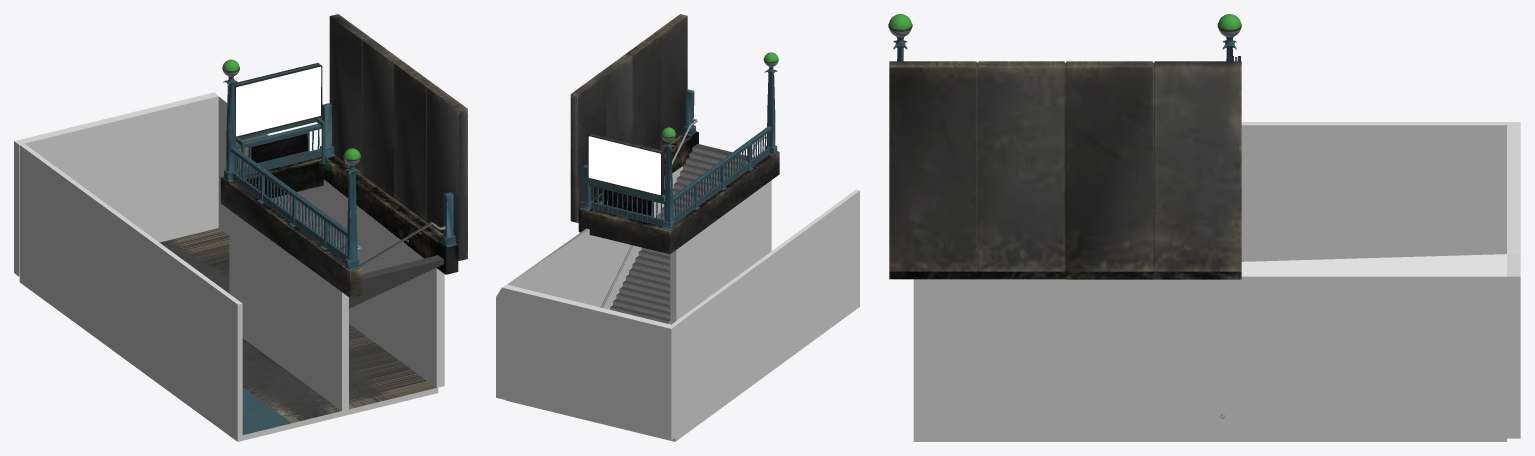
Rendered from entrance.glb.
The picture shows the model from 3 angles, left to right: view 1: azimuth 30°, elevation 25°; view 2: azimuth 150°, elevation 25°; view 3: azimuth 270°, elevation 25°; orthographic projection. The views are drawn at different scales.
Visible parts, largest first — view 1: IN.001; view 2: IN.001; view 3: IN.001.
Part boxes in pixels (x1=…): IN.001: x1=14, y1=14, x2=467, y2=441; IN.001: x1=496, y1=14, x2=859, y2=441; IN.001: x1=888, y1=14, x2=1520, y2=441.
Bounding box in the file's own units: 4.72 × 5.81 × 8.57.
Materials: 3 (1 with a texture image).
